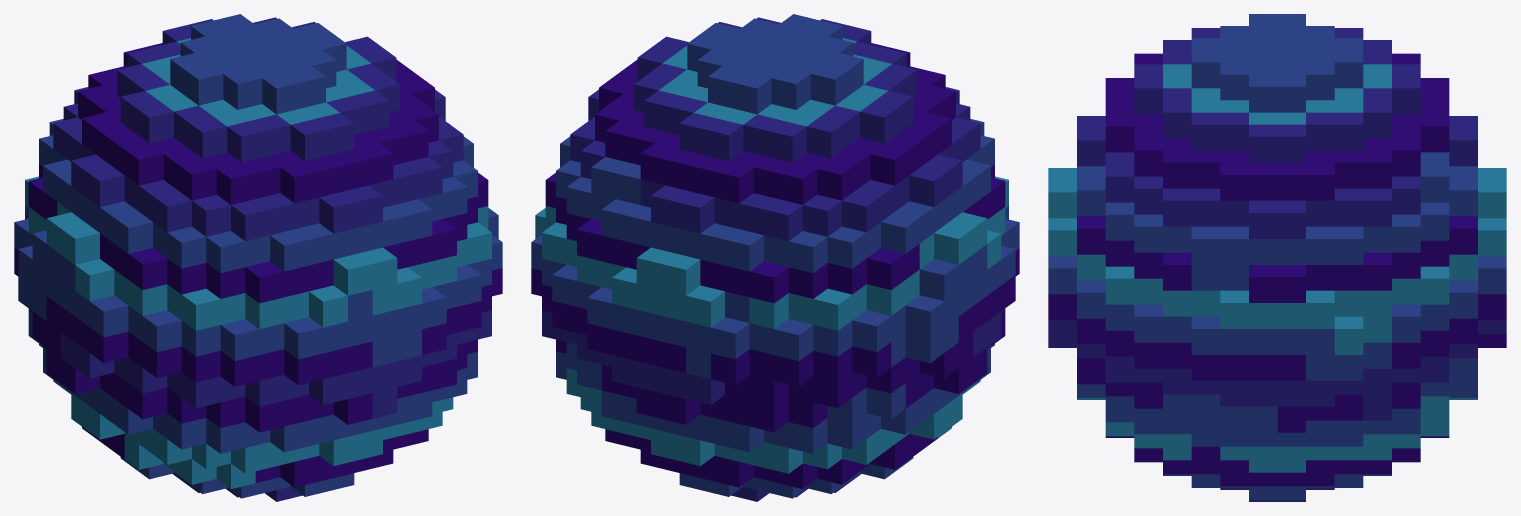
Rendered from planetas-16-azullistrado2.obj.
The picture shows the model from 3 angles, left to right: view 1: azimuth 30°, elevation 25°; view 2: azimuth 150°, elevation 25°; view 3: azimuth 270°, elevation 25°; orthographic projection.
Bounding box in the file's own units: 1.6 × 1.6 × 1.6.
Materials: 1 (1 with a texture image).
